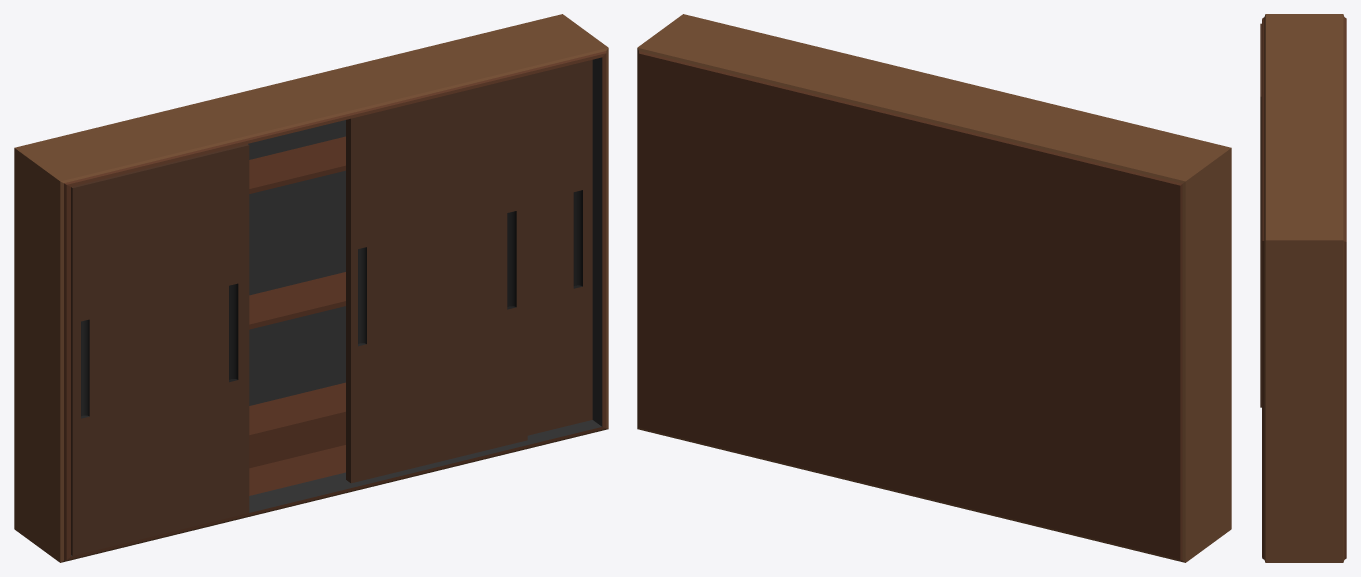
Rendered from Cigarette Case #2.fbx.
3 views of the same model, side by side, from view 1: azimuth 30°, elevation 25°; view 2: azimuth 150°, elevation 25°; view 3: azimuth 270°, elevation 25° (orthographic). The views are drawn at different scales.
Parts seen in each view (by area): view 1: Cigarette Case #2; view 2: Cigarette Case #2; view 3: Cigarette Case #2.
Boxes of the visible parts, box(x1,y1,x2,y2) form: Cigarette Case #2: box(14, 14, 608, 562); Cigarette Case #2: box(637, 14, 1231, 562); Cigarette Case #2: box(1260, 14, 1346, 562).
Bounding box in the file's own units: 139 × 92.34 × 22.36.
Materials: 1 (1 with a texture image).
